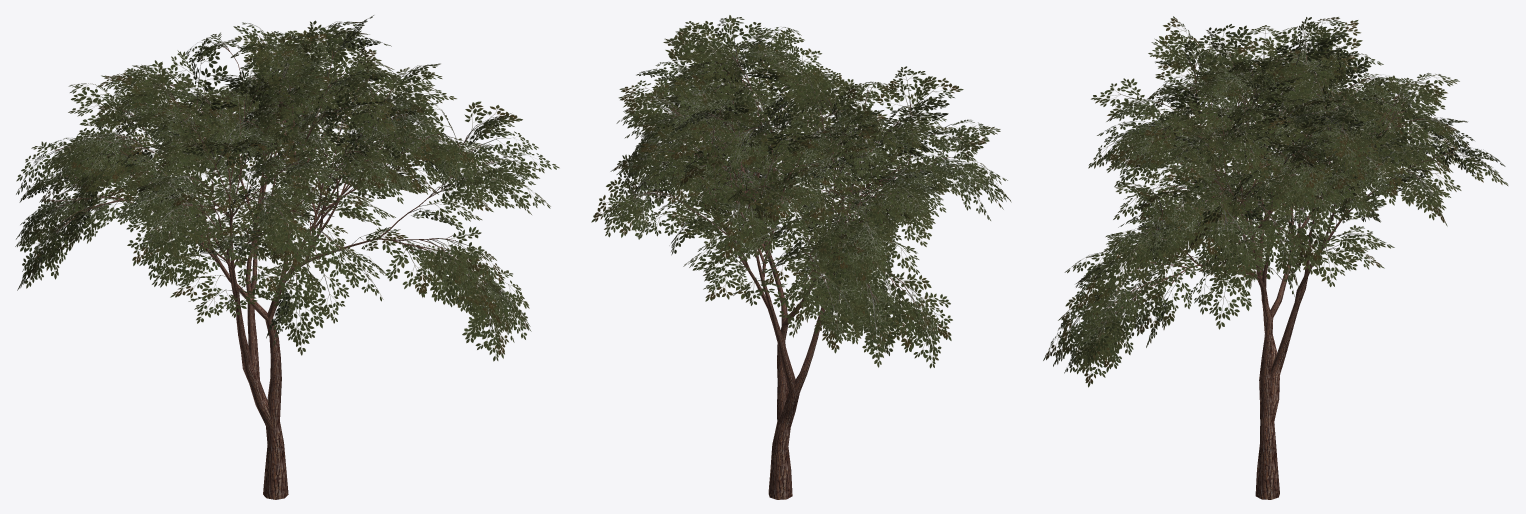
File: whnp3v2jflkw-_tree.glb
3 views of the same model, side by side, from view 1: azimuth 30°, elevation 25°; view 2: azimuth 150°, elevation 25°; view 3: azimuth 270°, elevation 25° (orthographic). The views are drawn at different scales.
Visible parts, largest first — view 1: polySurface1; view 2: polySurface1; view 3: polySurface1.
Part boxes in pixels (x1,y1,x2,y2): polySurface1: (15, 15, 559, 499); polySurface1: (591, 15, 1011, 499); polySurface1: (1043, 16, 1508, 499).
Size of the model in its own units: 0.0363 by 0.0382 by 0.0355.
2 materials, 2 textured.
